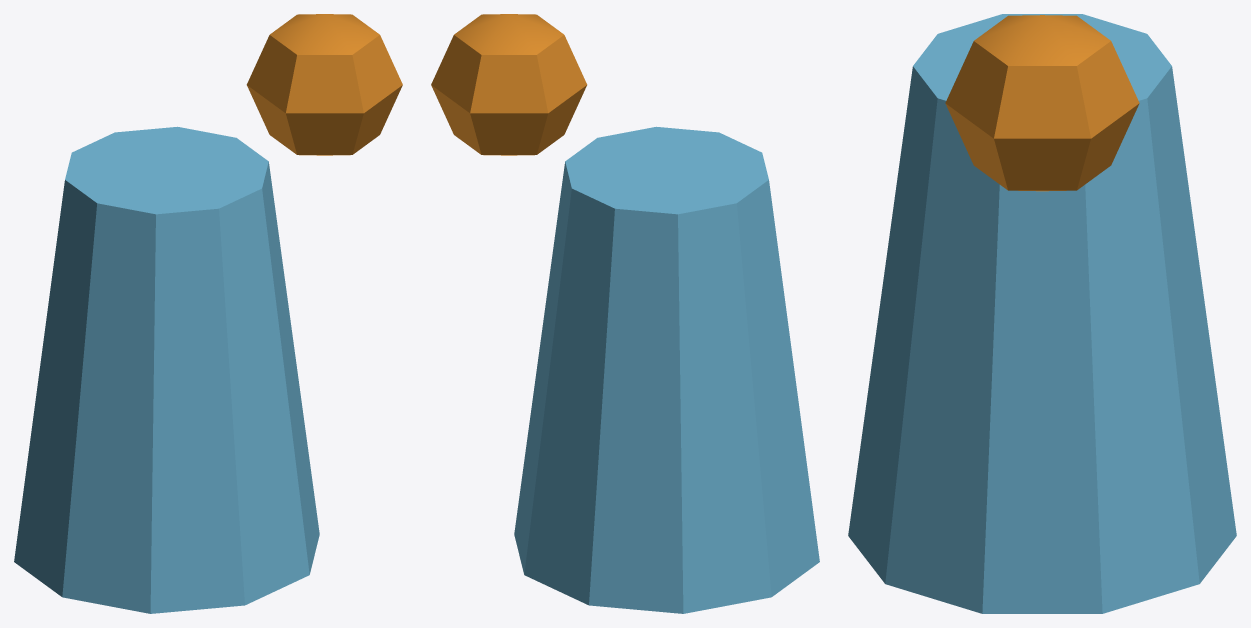
The model's file is PR_Drink_BalLikoru.fbx.
3 renders of one model, left to right at view 1: azimuth 30°, elevation 25°; view 2: azimuth 150°, elevation 25°; view 3: azimuth 270°, elevation 25°, orthographic. The views are drawn at different scales.
Visible parts, largest first — view 1: PR_Drink_BalLikoru; view 2: PR_Drink_BalLikoru; view 3: PR_Drink_BalLikoru.
Boxes of the visible parts, x1,y1,x2,y2 form: PR_Drink_BalLikoru: [14, 14, 402, 613]; PR_Drink_BalLikoru: [431, 14, 819, 613]; PR_Drink_BalLikoru: [848, 14, 1236, 613].
Bounding box in the file's own units: 0.0765 × 0.105 × 0.06.
1 material, 1 textured.
